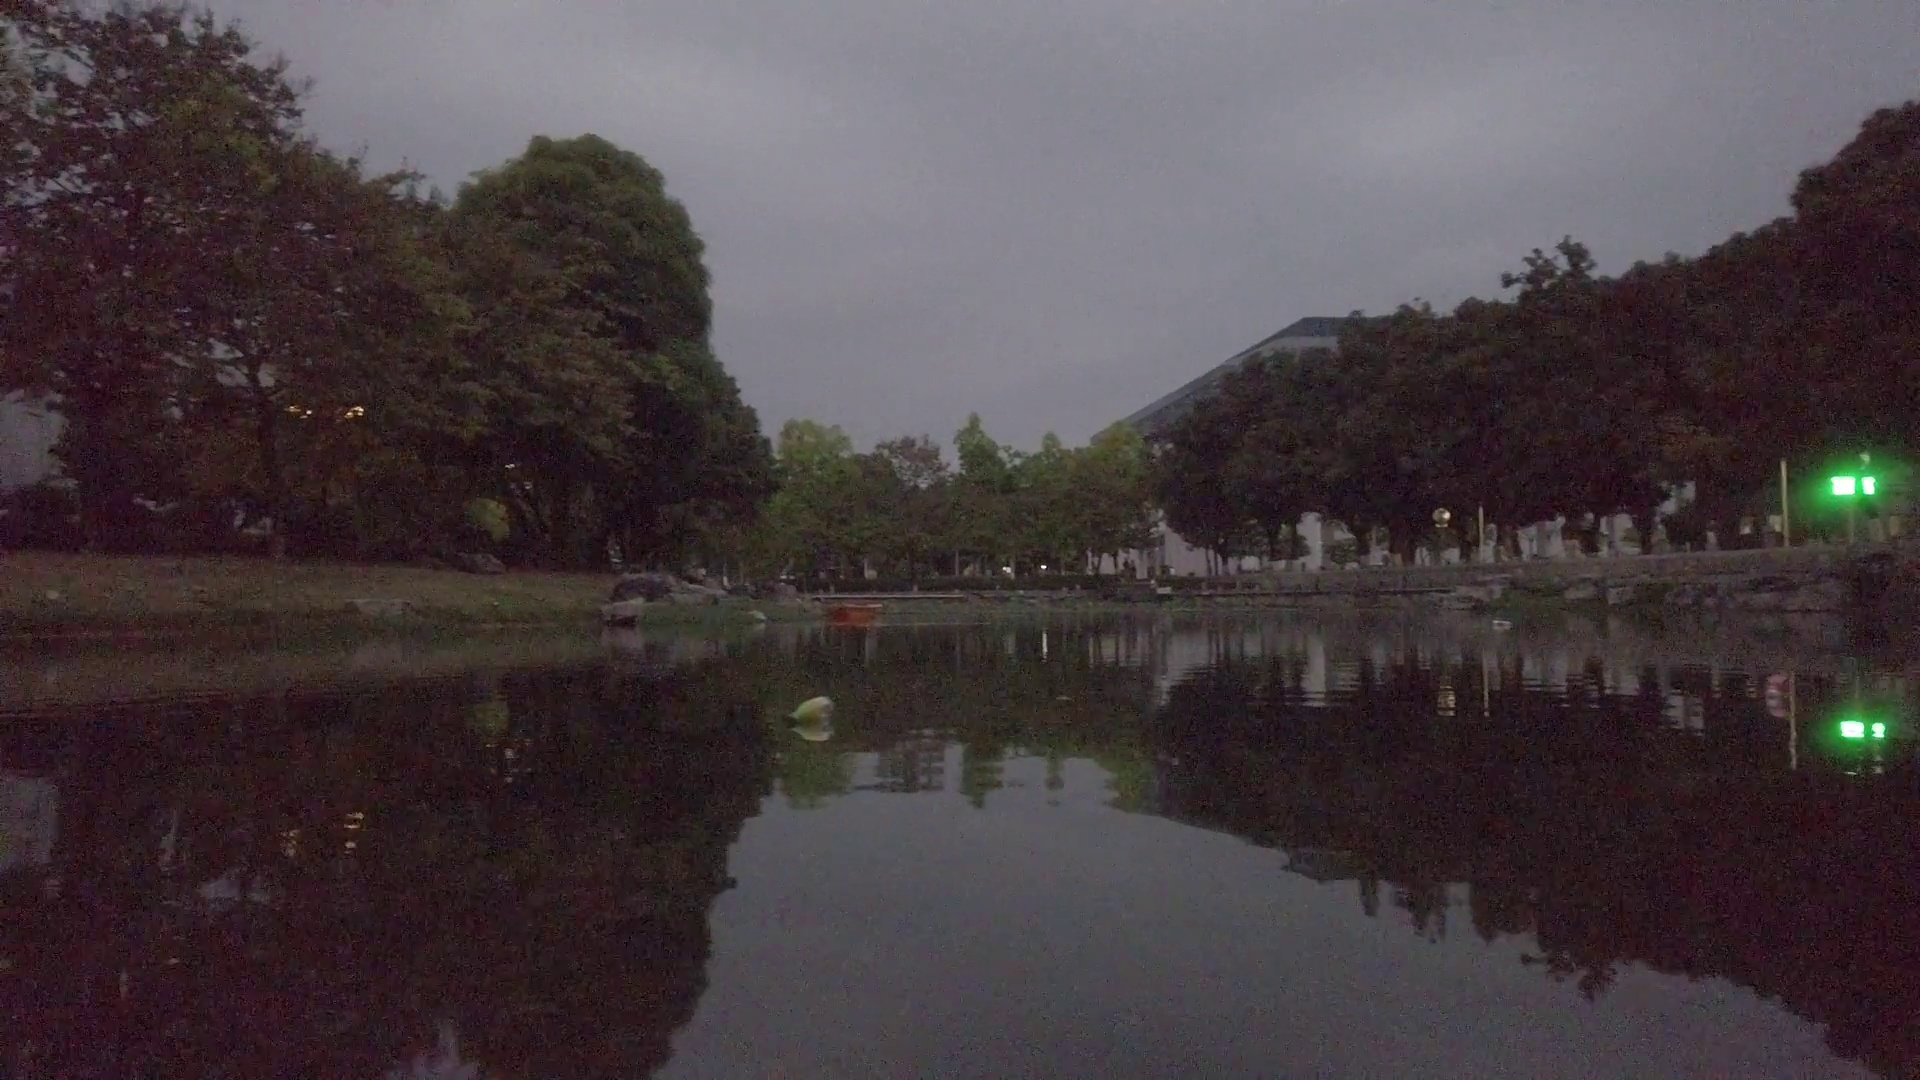bottle: (783, 698, 835, 728), (1763, 671, 1792, 704), (1493, 617, 1513, 632)
